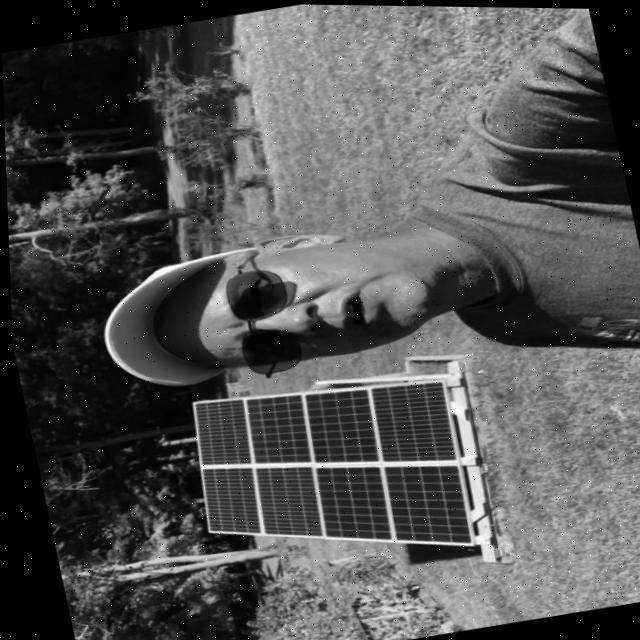Normal Solar Panel: (178, 357, 475, 588)
